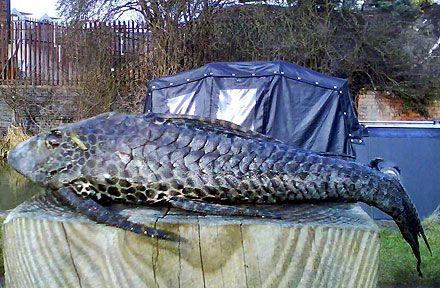Janitor Fish: (7, 111, 436, 276)
